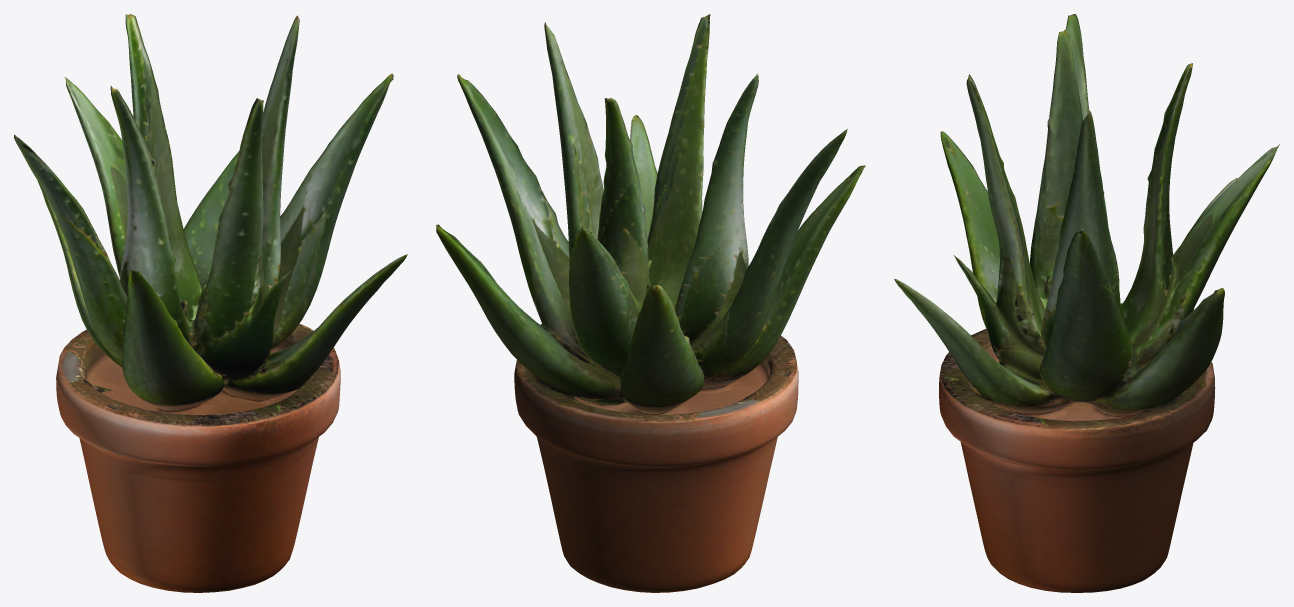
The model's file is aloevera.glb.
3 renders of one model, left to right at view 1: azimuth 30°, elevation 25°; view 2: azimuth 150°, elevation 25°; view 3: azimuth 270°, elevation 25°, orthographic. The views are drawn at different scales.
Visible parts, largest first — view 1: Mesh_0; view 2: Mesh_0; view 3: Mesh_0.
Part boxes in pixels (x1=…): Mesh_0: x1=14, y1=14, x2=407, y2=592; Mesh_0: x1=436, y1=14, x2=865, y2=592; Mesh_0: x1=894, y1=14, x2=1279, y2=592.
Size of the model in its own units: 1.56 by 2 by 1.4.
1 material, 1 textured.
